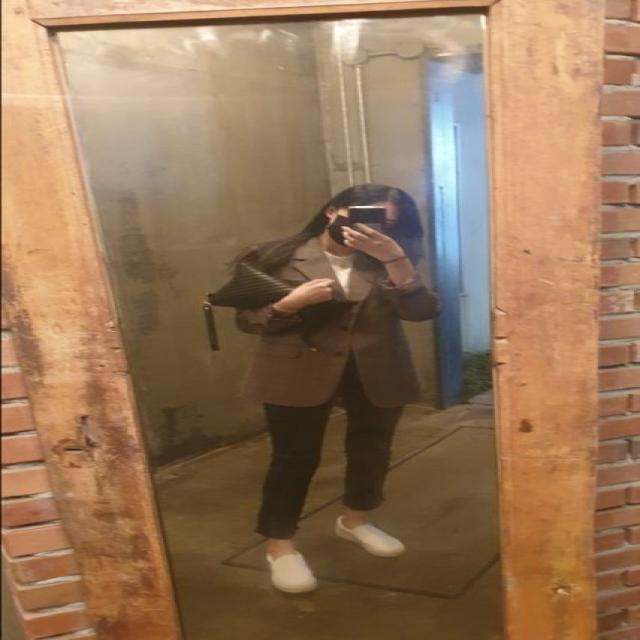blazer: (235, 234, 438, 406)
denimpants: (252, 340, 402, 538)
